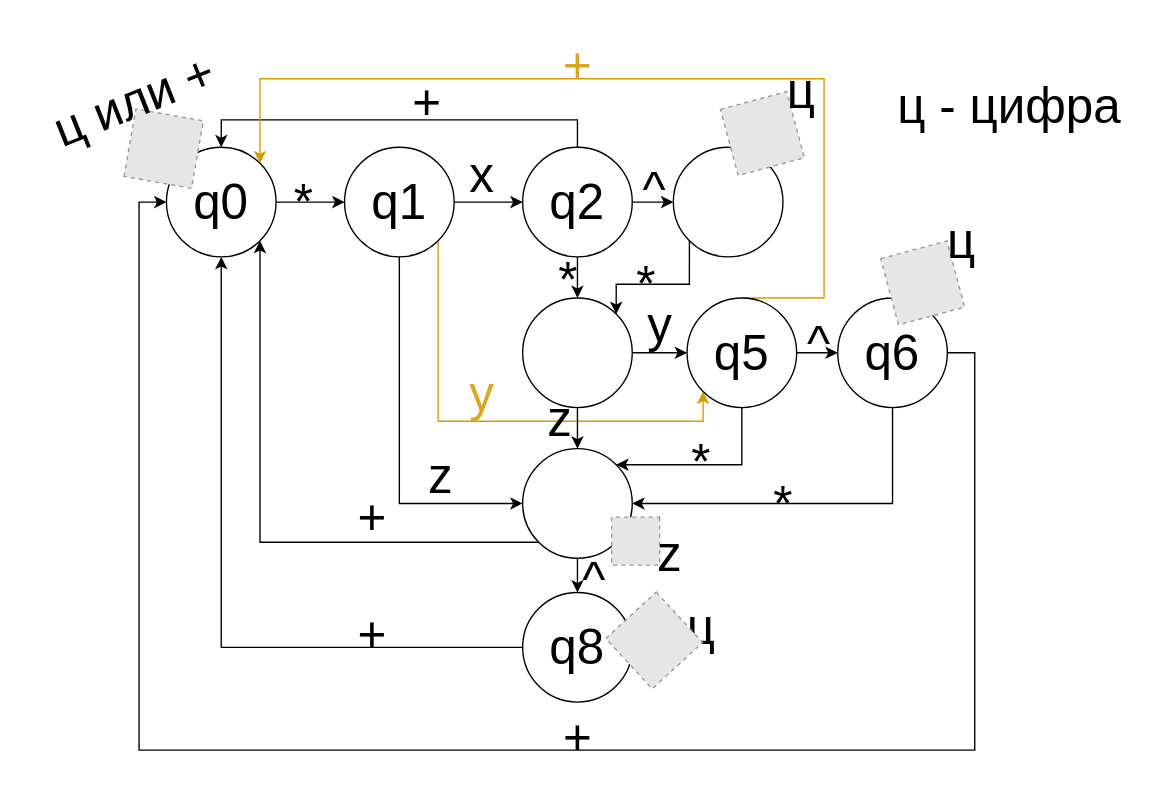
Image size: 1163x800. Some labels were removed from this diagram. Grey dashed boxes stand in for pictures. The shapes that lost their labels are listed below. From the top down, each one's centre as x and y in pixels, then its label:
At (727,201): "q3".
At (576,352): "q4".
At (576,502): "q7".
